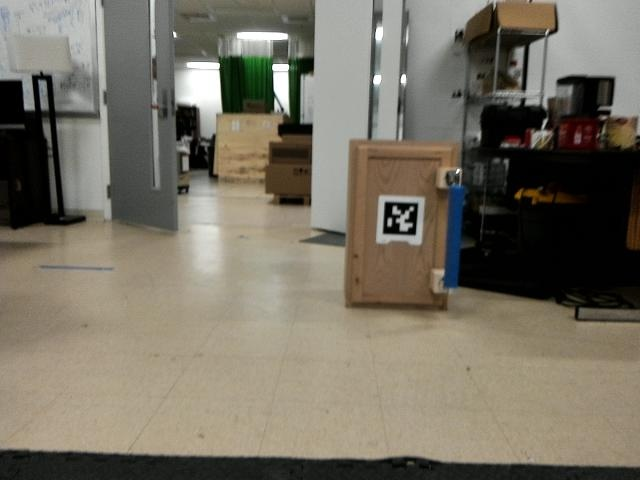noodle_handle: (439, 176, 467, 292)
